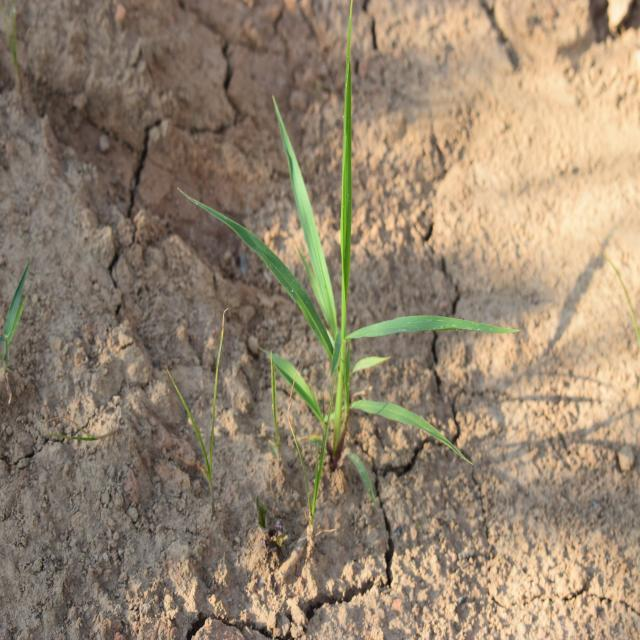green_foxtail: (230, 102, 440, 481)
